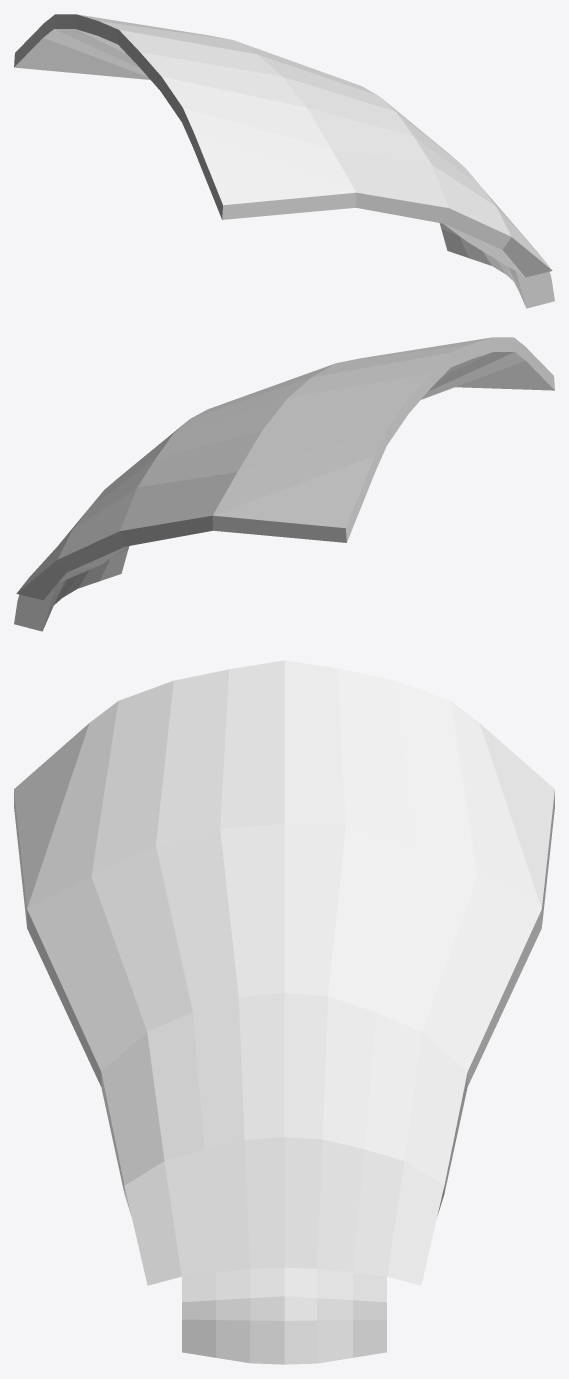
Rendered from Drones_3.fbx.
3 views of the same model, one above another, from view 1: azimuth 30°, elevation 25°; view 2: azimuth 150°, elevation 25°; view 3: azimuth 270°, elevation 25° (orthographic). The views are drawn at different scales.
Parts seen in each view (by area): view 1: Cube.002; view 2: Cube.002; view 3: Cube.002.
Part boxes in pixels (x1,y1,x2,y2): Cube.002: [14, 14, 554, 308]; Cube.002: [14, 337, 554, 631]; Cube.002: [14, 660, 554, 1364].
Size of the model in its own units: 210 by 164 by 182.
